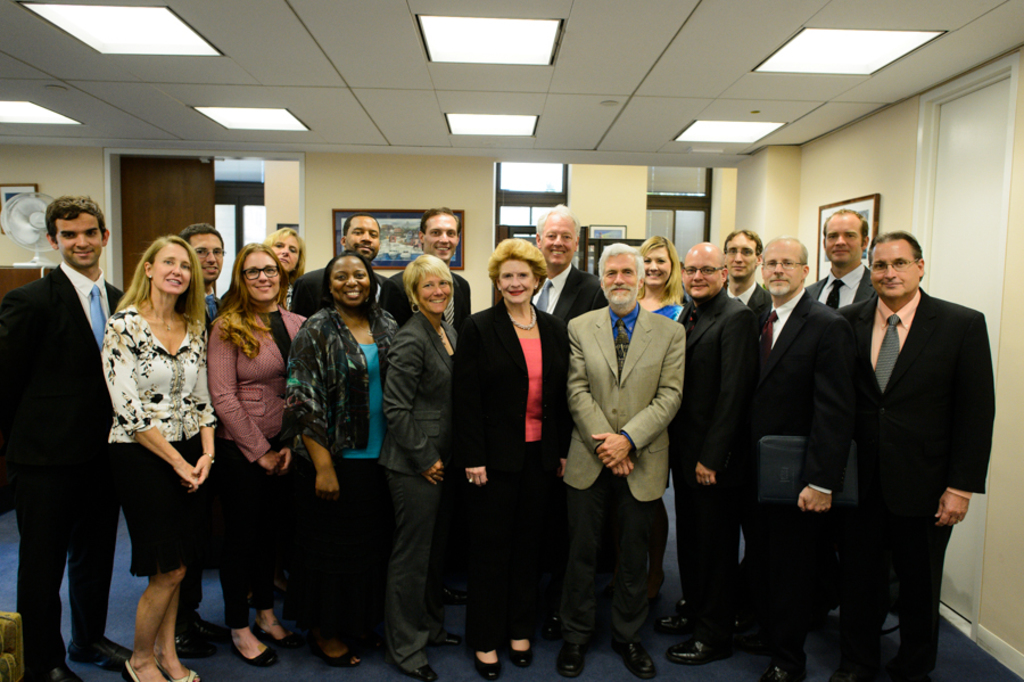Human-face: (55, 215, 104, 268), (869, 241, 915, 294), (600, 253, 637, 306), (539, 217, 576, 266), (823, 221, 861, 266), (761, 247, 799, 291), (426, 215, 460, 262), (347, 213, 380, 261), (246, 253, 280, 299), (335, 263, 372, 305), (684, 255, 720, 298), (156, 246, 190, 290), (193, 233, 224, 278), (502, 260, 536, 301), (641, 240, 670, 284), (728, 237, 759, 276), (419, 272, 451, 305)
